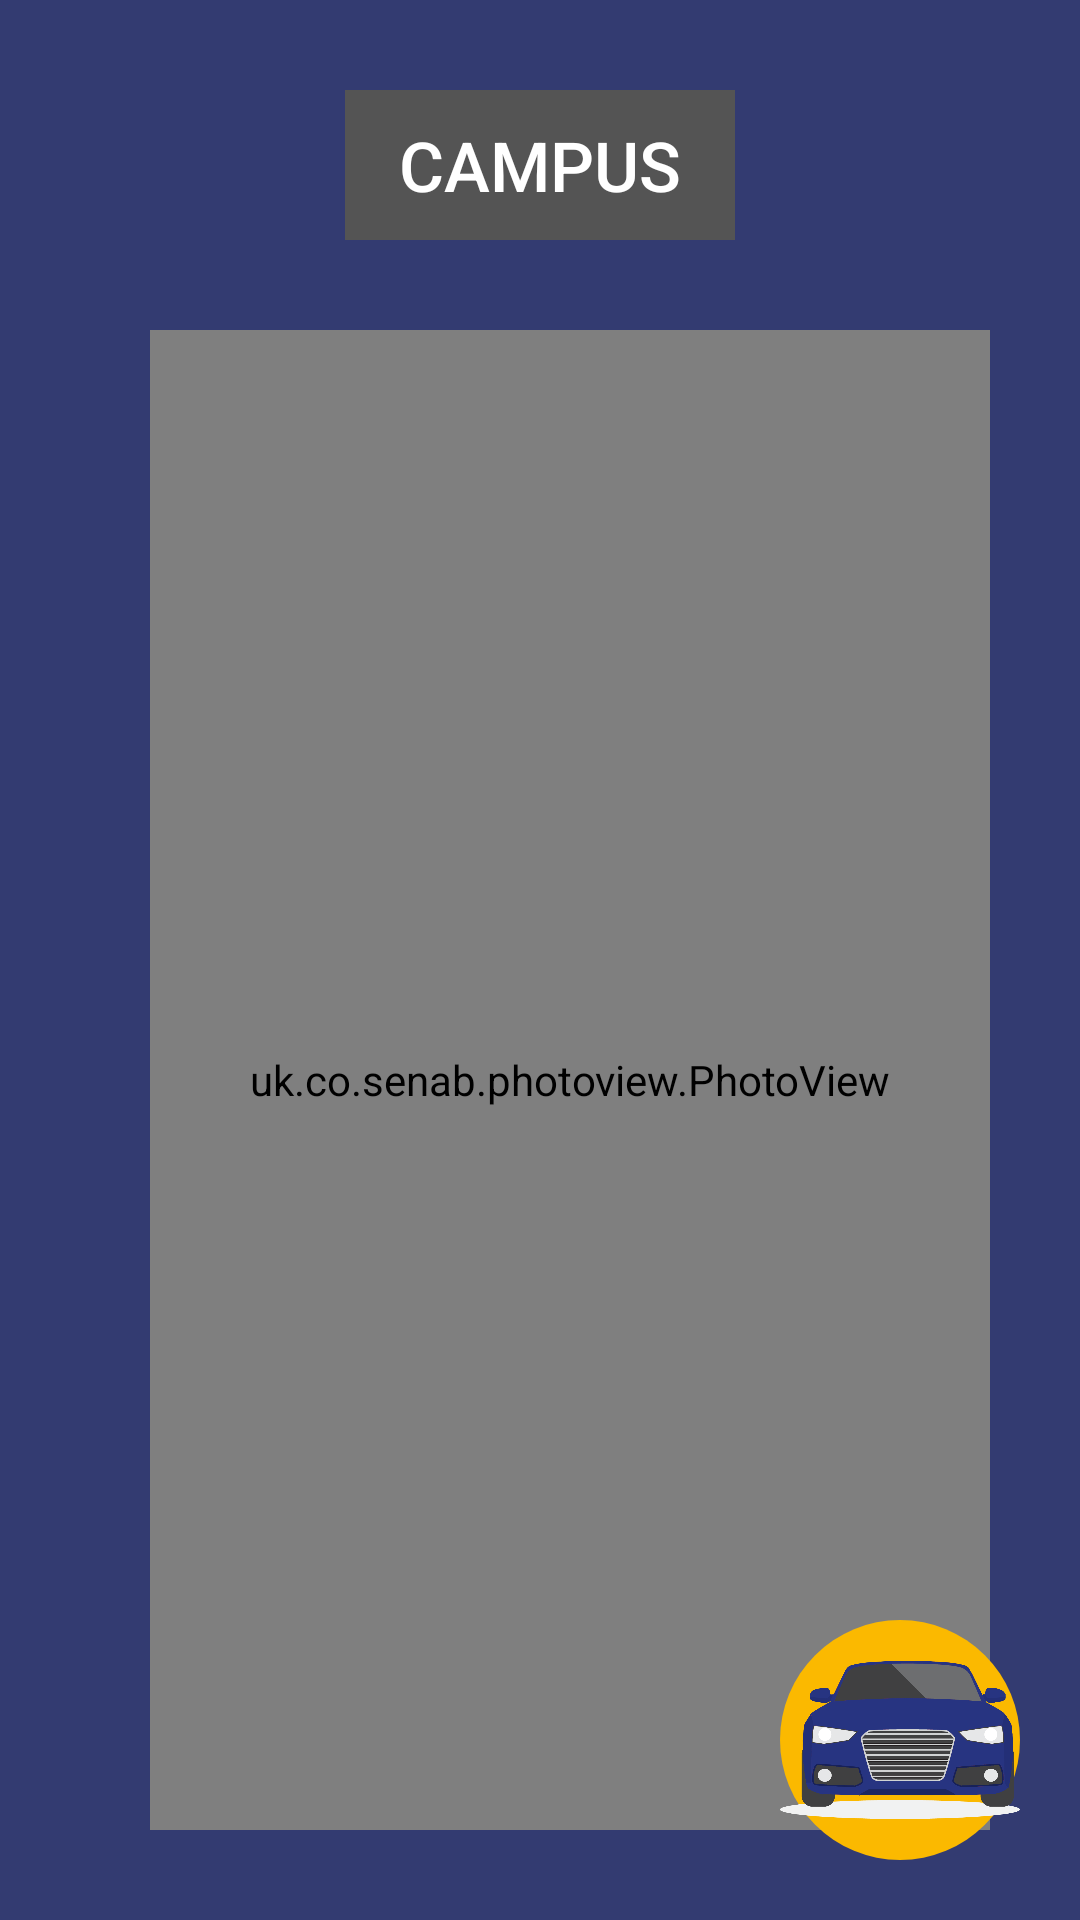

Where to tap for icons on this 1080w x 1920h app screen, as (x=x, y=y):
parqueo: (x=900, y=1740)
